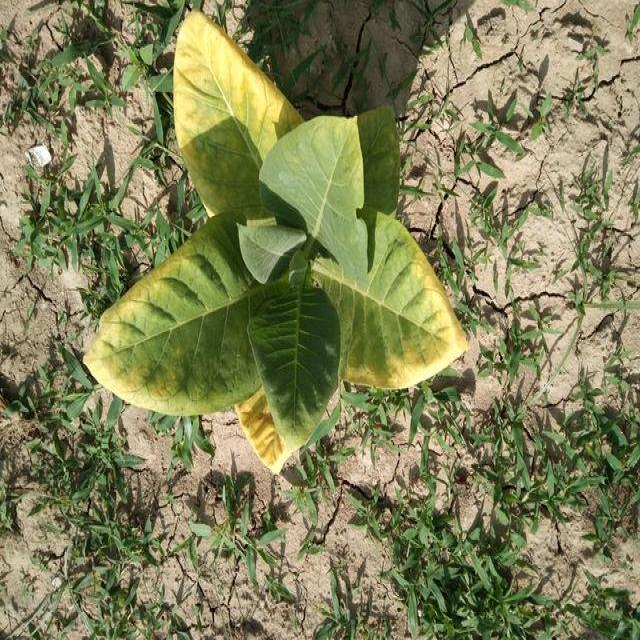crop: (80, 12, 472, 476)
